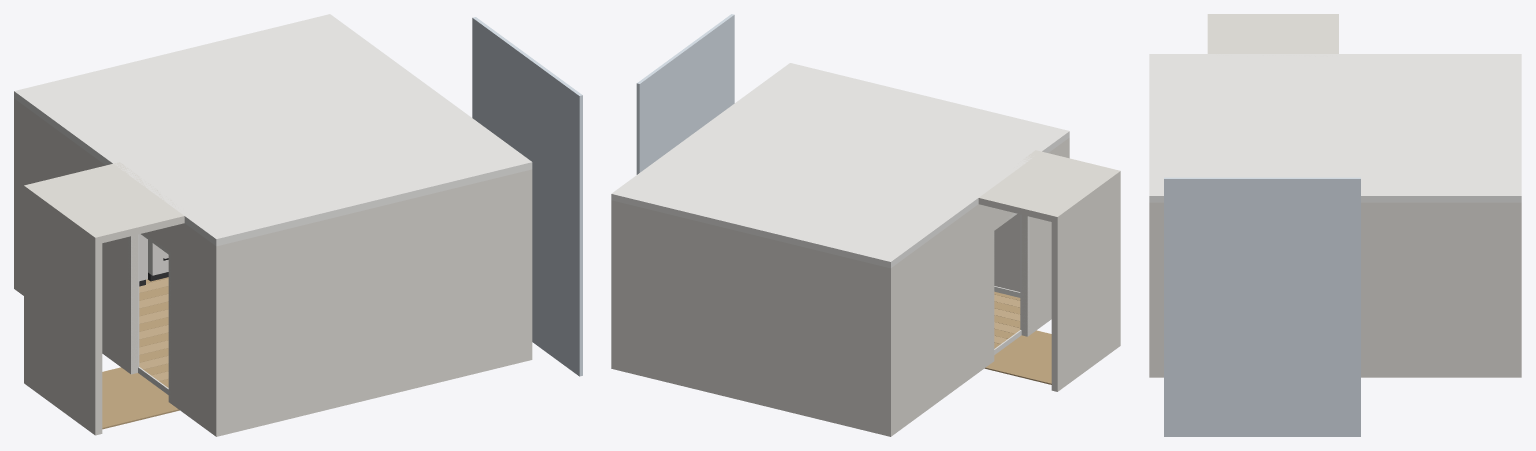
File: kitchen.obj
The picture shows the model from 3 angles, left to right: view 1: azimuth 30°, elevation 25°; view 2: azimuth 150°, elevation 25°; view 3: azimuth 270°, elevation 25°; orthographic projection. The views are drawn at different scales.
Parts seen in each view (by area): view 1: ceiling_001, wall_002, sky_001, wall_010, wall_007, wall_009, wall_011, floor_wood_b_014, wall_006, wall_001, cabinet_002; view 2: ceiling_001, wall_001, wall_007, wall_010, sky_001, wall_011, wall_009, floor_wood_b_014, wall_002, frame_white_015; view 3: sky_001, ceiling_001, wall_003, wall_011, wall_006, wall_001, wall_002.
Boxes of the visible parts, <box> form: ceiling_001: <box>14,14,532,246</box>; wall_002: <box>212,169,532,436</box>; sky_001: <box>472,17,582,376</box>; wall_010: <box>24,193,102,435</box>; wall_007: <box>14,99,137,374</box>; wall_009: <box>168,223,223,436</box>; wall_011: <box>24,162,189,244</box>; floor_wood_b_014: <box>102,367,179,429</box>; wall_006: <box>525,169,532,361</box>; wall_001: <box>14,98,17,291</box>; cabinet_002: <box>148,240,168,275</box>; ceiling_001: <box>611,63,1069,268</box>; wall_001: <box>611,200,894,436</box>; wall_007: <box>884,204,994,436</box>; wall_010: <box>1051,177,1120,391</box>; sky_001: <box>636,14,734,174</box>; wall_011: <box>978,150,1120,223</box>; wall_009: <box>1021,138,1069,336</box>; floor_wood_b_014: <box>984,330,1051,384</box>; wall_002: <box>994,138,1069,291</box>; frame_white_015: <box>1022,216,1029,336</box>; sky_001: <box>1164,177,1360,436</box>; ceiling_001: <box>1149,54,1521,202</box>; wall_003: <box>1361,202,1521,377</box>; wall_011: <box>1207,14,1338,56</box>; wall_006: <box>1149,202,1163,377</box>; wall_001: <box>1514,202,1521,377</box>; wall_002: <box>1149,202,1156,377</box>.
Bounding box in the file's own units: 6.75 × 3.9 × 5.1.
